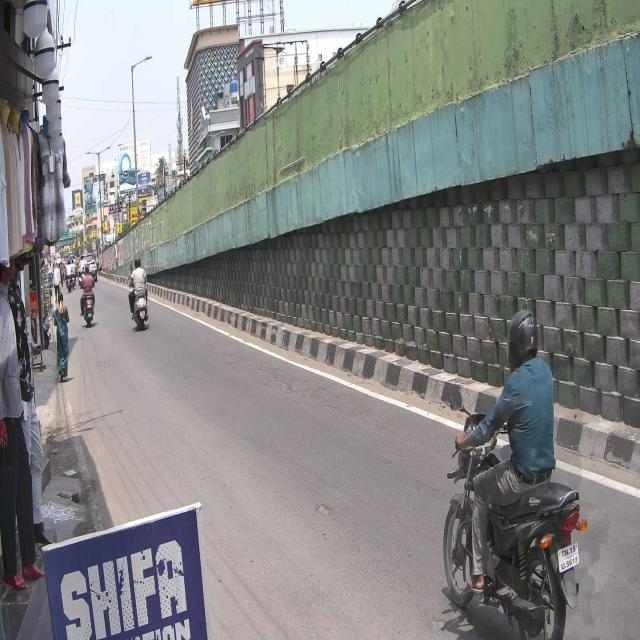single_rider: (441, 304, 586, 640)
